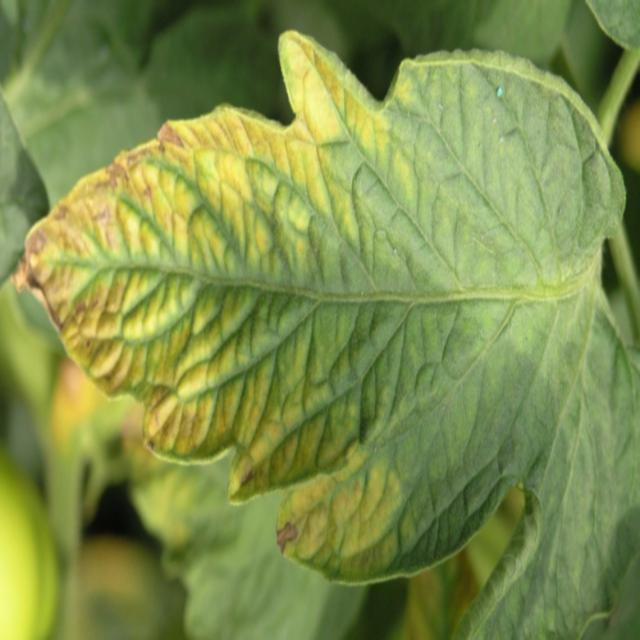Chlorosis: (18, 34, 468, 528)
